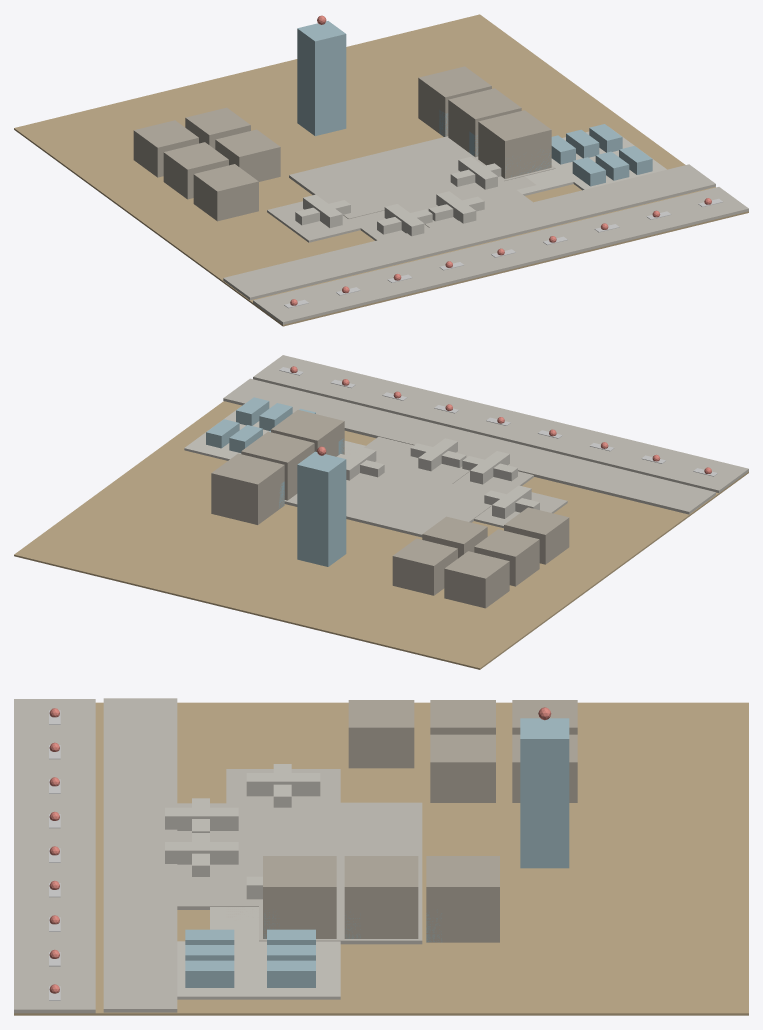
File: stage_21.glb
3 views of the same model, one above another, from view 1: azimuth 30°, elevation 25°; view 2: azimuth 150°, elevation 25°; view 3: azimuth 270°, elevation 25° (orthographic). The views are drawn at different scales.
Visible parts, largest first — view 1: geometry_0; view 2: geometry_0; view 3: geometry_0.
Part boxes in pixels (x1,y1,x2,y2): geometry_0: (14, 14, 748, 326); geometry_0: (14, 355, 748, 669); geometry_0: (14, 698, 748, 1015).
Size of the model in its own units: 9 by 2.06 by 9.
